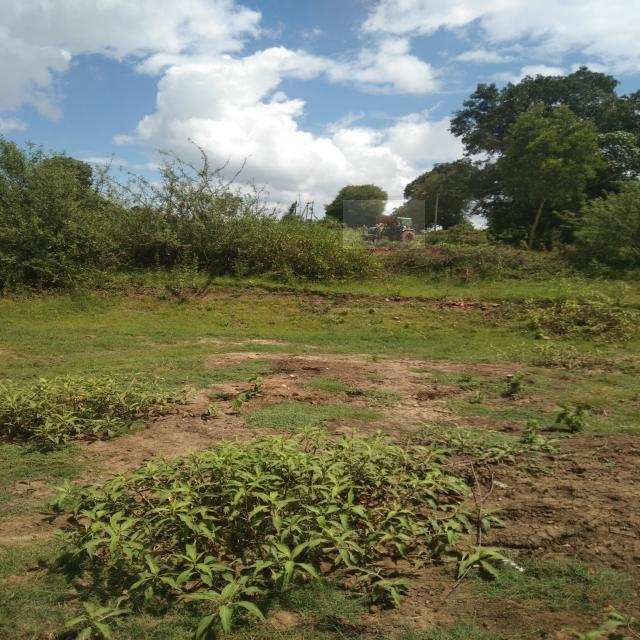Tractot: (344, 200, 426, 249)
